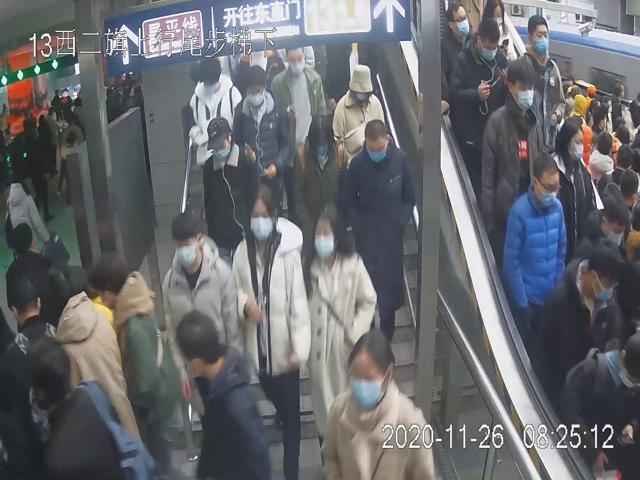person: (299, 200, 378, 459), (234, 186, 306, 461), (345, 117, 414, 354), (502, 153, 564, 328), (482, 60, 543, 229), (229, 62, 295, 198), (200, 114, 262, 250), (293, 110, 342, 265), (448, 17, 503, 146), (332, 45, 386, 175), (185, 53, 240, 176), (272, 42, 326, 131)
